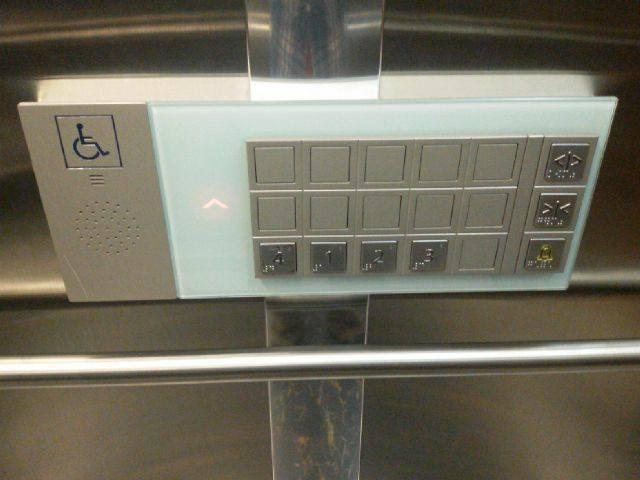1: (307, 239, 350, 275)
2: (358, 239, 400, 274)
3: (408, 237, 448, 273)
4: (259, 241, 301, 277)
CH: (53, 115, 122, 169)
alarm: (524, 236, 567, 276)
close: (533, 190, 580, 231)
open: (544, 142, 591, 186)
